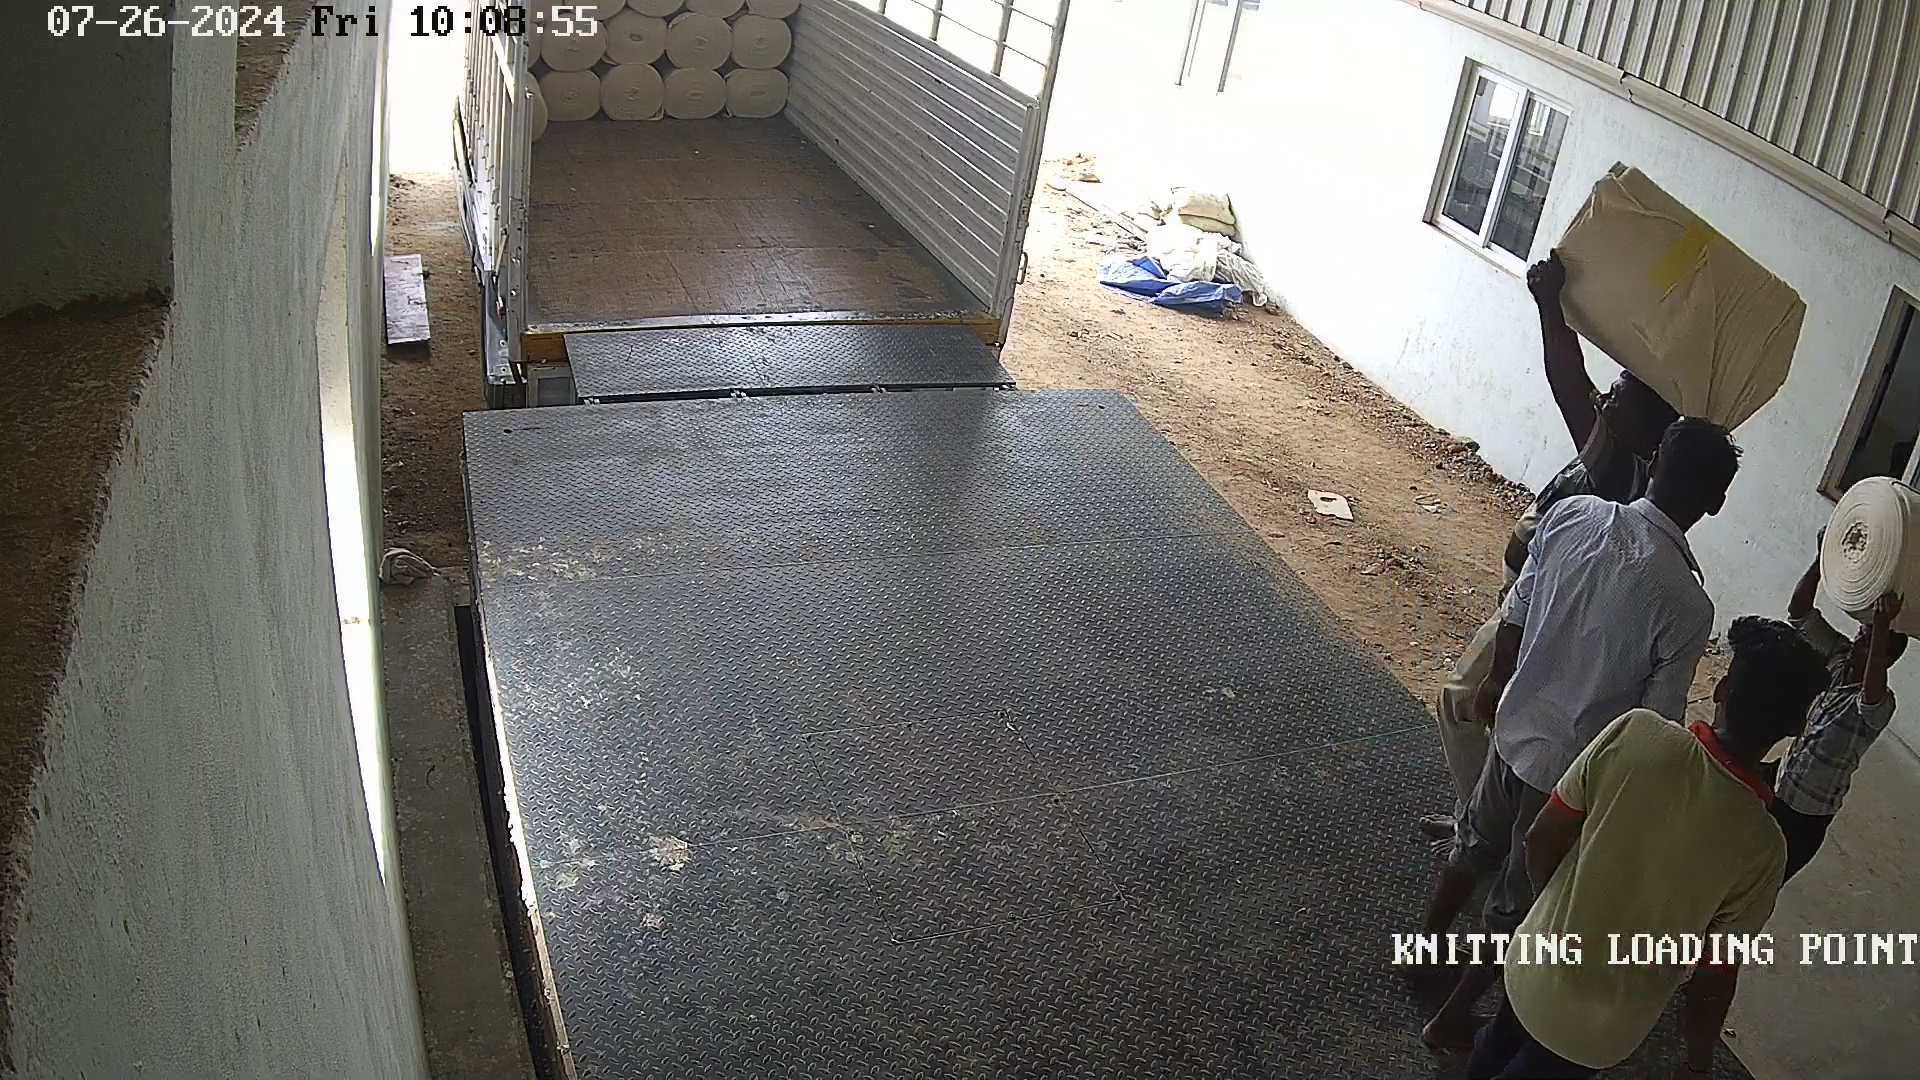bag: (1536, 156, 1816, 436)
